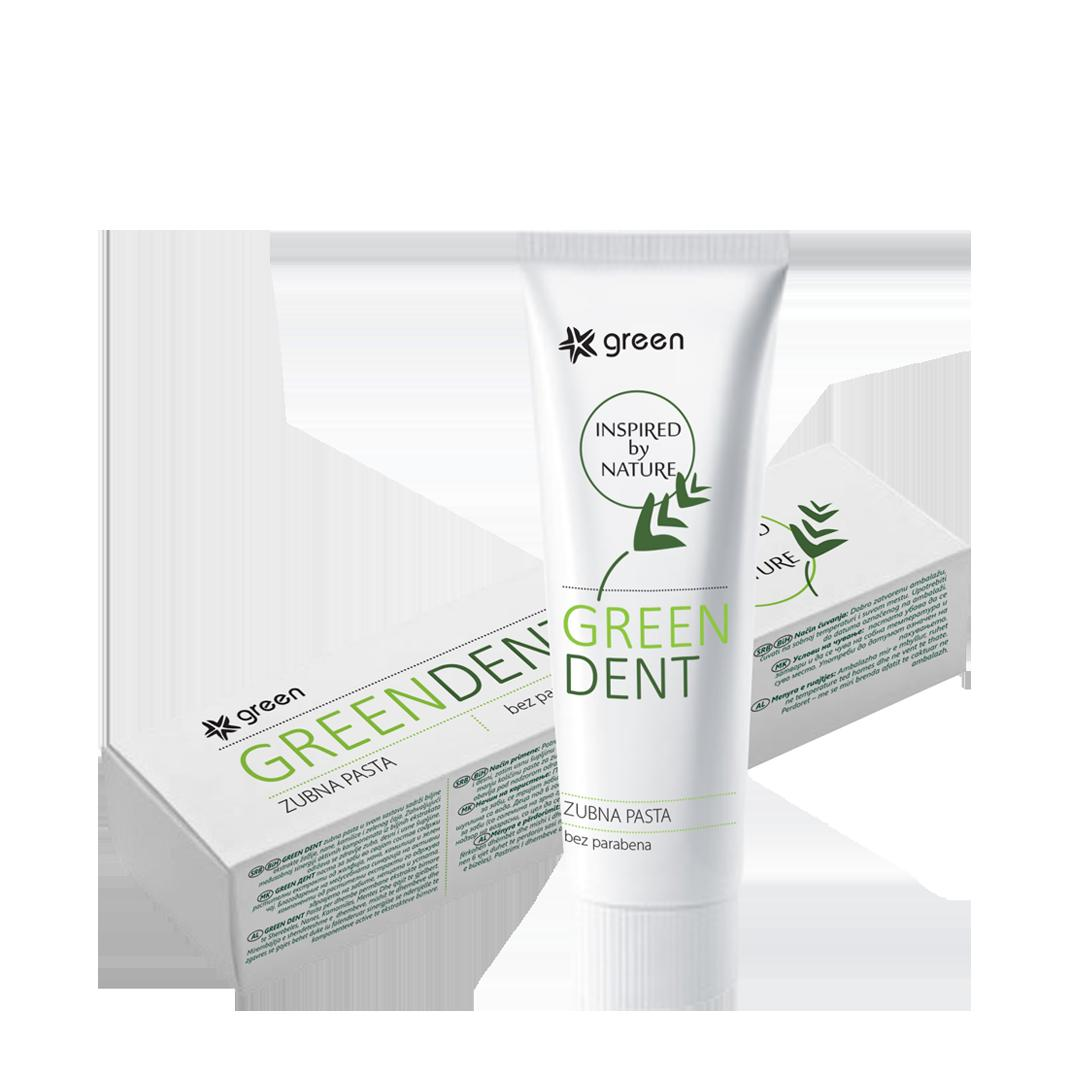toothpaste: (78, 412, 1024, 991), (492, 209, 783, 1012)
